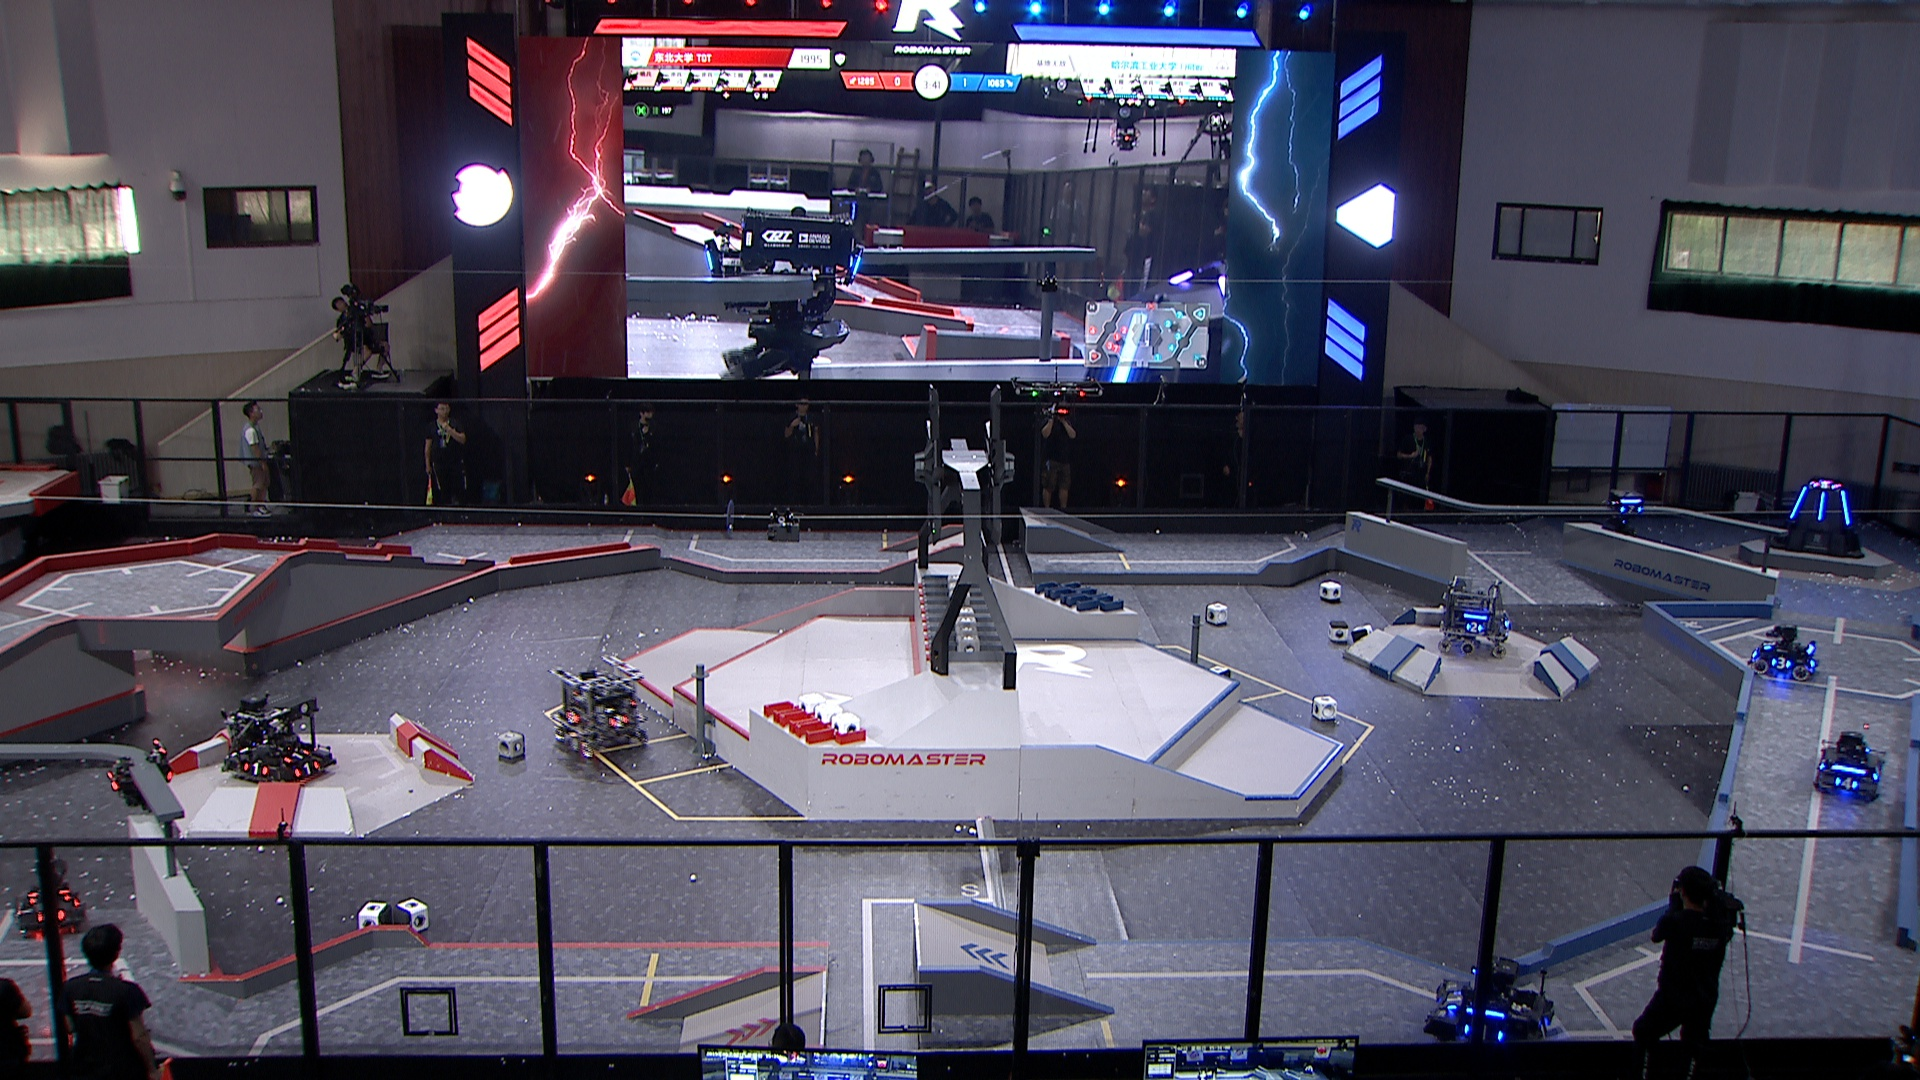armor: (1458, 1017, 1505, 1048), (1534, 1007, 1557, 1044), (1788, 483, 1808, 520), (291, 757, 320, 782), (1441, 986, 1465, 1014), (243, 757, 272, 779), (1832, 771, 1861, 793), (1840, 491, 1855, 529), (280, 744, 310, 764), (103, 767, 121, 796), (1615, 500, 1643, 518), (1770, 654, 1793, 674), (607, 712, 632, 731), (1462, 618, 1485, 636), (1869, 764, 1884, 785), (1759, 636, 1779, 651), (564, 709, 582, 725), (1817, 491, 1826, 520)
base: (1768, 479, 1869, 556)
car: (1420, 953, 1560, 1055), (546, 651, 654, 757), (223, 695, 334, 785), (1432, 571, 1513, 659), (12, 855, 86, 938), (1808, 731, 1888, 800), (1743, 621, 1820, 680)
ignore: (699, 204, 858, 382), (1809, 480, 1840, 491)
watcher: (102, 735, 174, 815), (1600, 483, 1648, 541)
